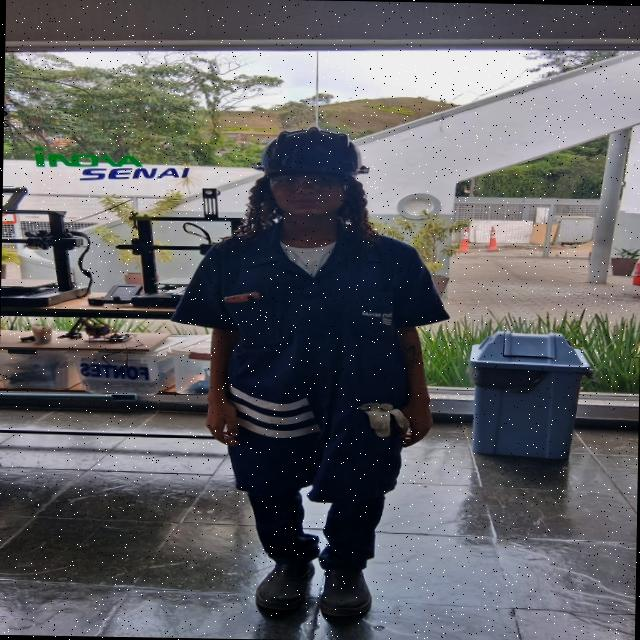BOTA: (253, 546, 317, 612), (316, 556, 380, 617)
CAPACETE: (249, 124, 372, 179)
JALECO: (165, 214, 457, 502)
OCULOS: (262, 174, 357, 194)
SEM LUVA: (393, 400, 436, 452), (197, 403, 237, 445)
